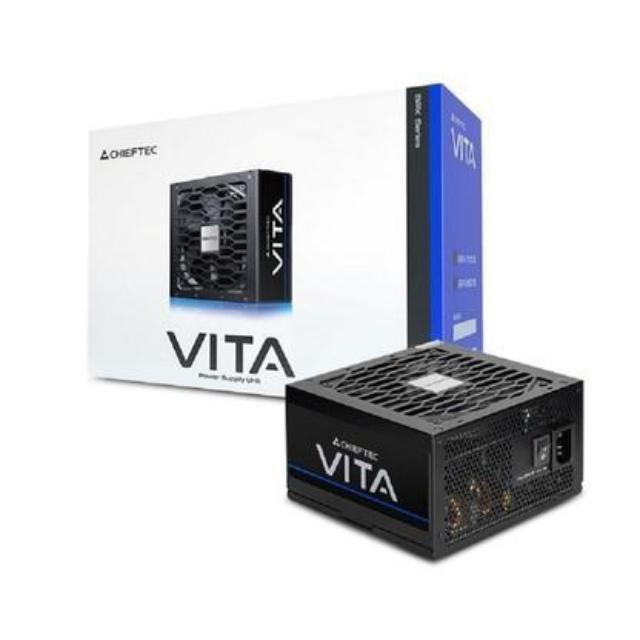PSU: (272, 337, 590, 566)
